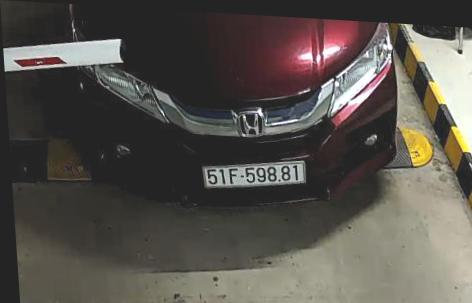License_Plate: (200, 155, 309, 193)
